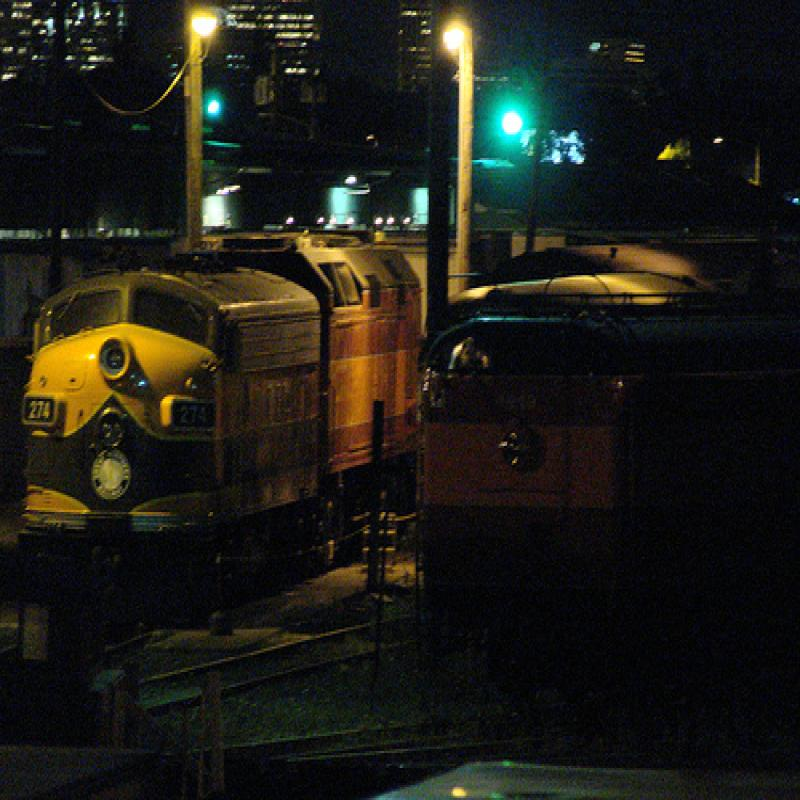train: (22, 223, 422, 592), (417, 238, 795, 596)
